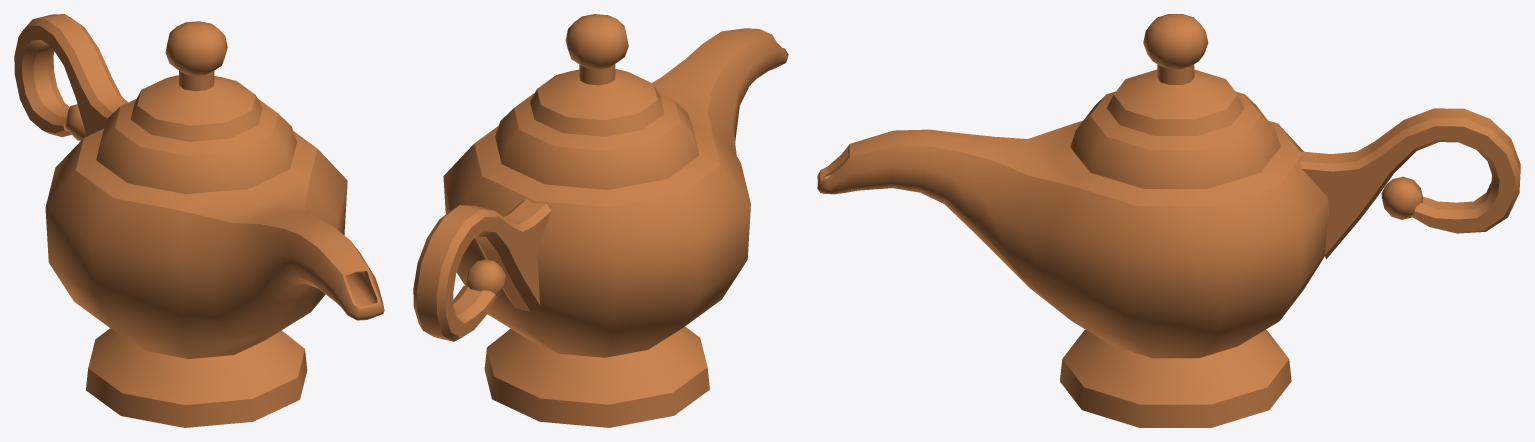
Rendered from GenieLamp_01.fbx.
3 renders of one model, left to right at view 1: azimuth 30°, elevation 25°; view 2: azimuth 150°, elevation 25°; view 3: azimuth 270°, elevation 25°, orthographic. The views are drawn at different scales.
Parts seen in each view (by area): view 1: GenieLamp_01, GenieLamp_01_Top; view 2: GenieLamp_01, GenieLamp_01_Top; view 3: GenieLamp_01, GenieLamp_01_Top.
Boxes of the visible parts, <box> form: GenieLamp_01: <box>14,14,384,427</box>; GenieLamp_01_Top: <box>96,21,296,194</box>; GenieLamp_01: <box>413,28,788,427</box>; GenieLamp_01_Top: <box>495,14,699,189</box>; GenieLamp_01: <box>817,108,1520,427</box>; GenieLamp_01_Top: <box>1070,14,1280,188</box>.
Bounding box in the file's own units: 0.1504 × 0.2001 × 0.3514.
